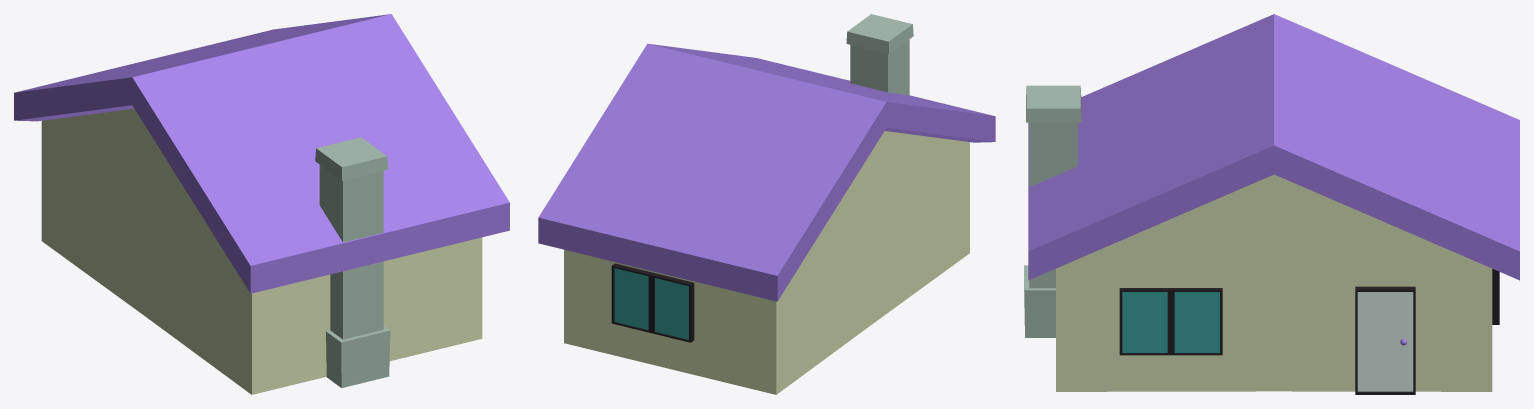
The model's file is house2.fbx.
3 renders of one model, left to right at view 1: azimuth 30°, elevation 25°; view 2: azimuth 150°, elevation 25°; view 3: azimuth 270°, elevation 25°, orthographic. The views are drawn at different scales.
Visible parts, largest first — view 1: Plane.001, Plane, Cube; view 2: Plane.001, Plane, Cube.004, Cube; view 3: Plane.001, Plane, Cube.003, Cube, Cube.001, Cube.004.
Boxes of the visible parts, x1,y1,x2,y2 form: Plane.001: (14,14,509,293); Plane: (41,108,482,394); Cube: (315,137,390,387); Plane.001: (538,43,995,301); Plane: (564,131,969,394); Cube.004: (611,263,694,342); Cube: (846,14,913,95); Plane.001: (1028,14,1519,280); Plane: (1056,174,1492,391); Cube.003: (1119,288,1222,355); Cube: (1024,85,1081,337); Cube.001: (1355,286,1415,394); Cube.004: (1492,269,1499,324).
Bounding box in the file's own units: 1275 × 1151 × 2031.
Materials: 5 (2 with a texture image).
